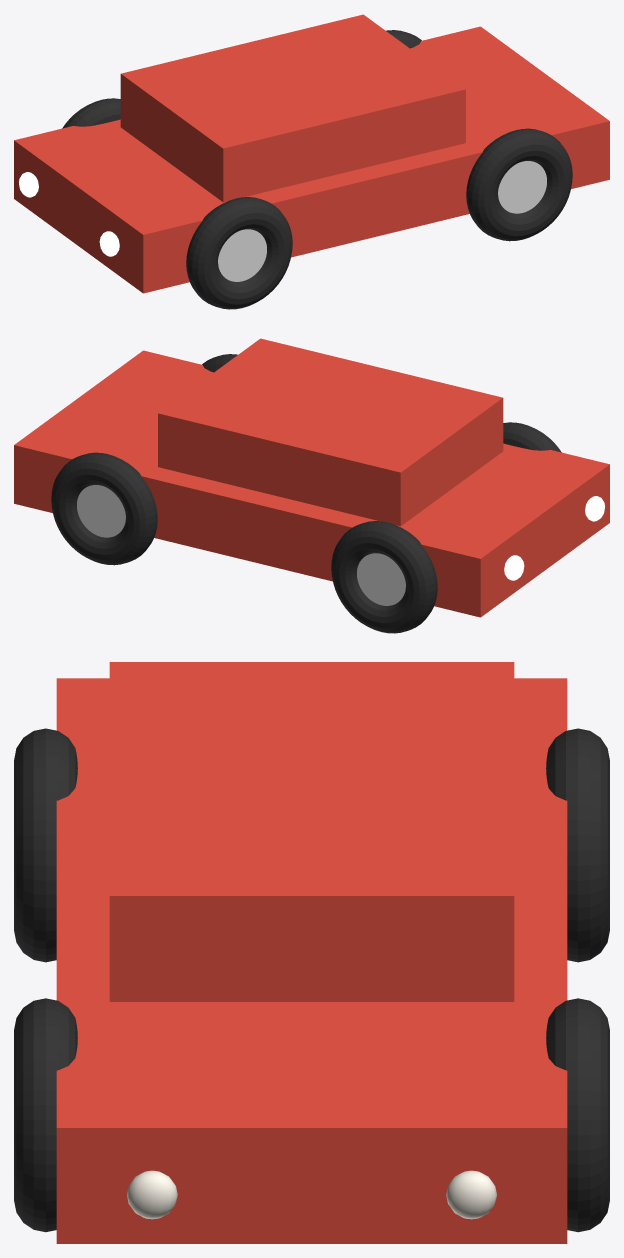
3 views of the same model, one above another, from view 1: azimuth 30°, elevation 25°; view 2: azimuth 150°, elevation 25°; view 3: azimuth 270°, elevation 25° (orthographic). The views are drawn at different scales.
Visible parts, largest first — view 1: RedSportsCar; view 2: RedSportsCar; view 3: RedSportsCar.
Part boxes in pixels (x1=…): RedSportsCar: x1=14, y1=14, x2=609, y2=309; RedSportsCar: x1=14, y1=338, x2=609, y2=633; RedSportsCar: x1=14, y1=662, x2=609, y2=1243.
Size of the model in its own units: 5.37 by 1.5 by 2.8.
